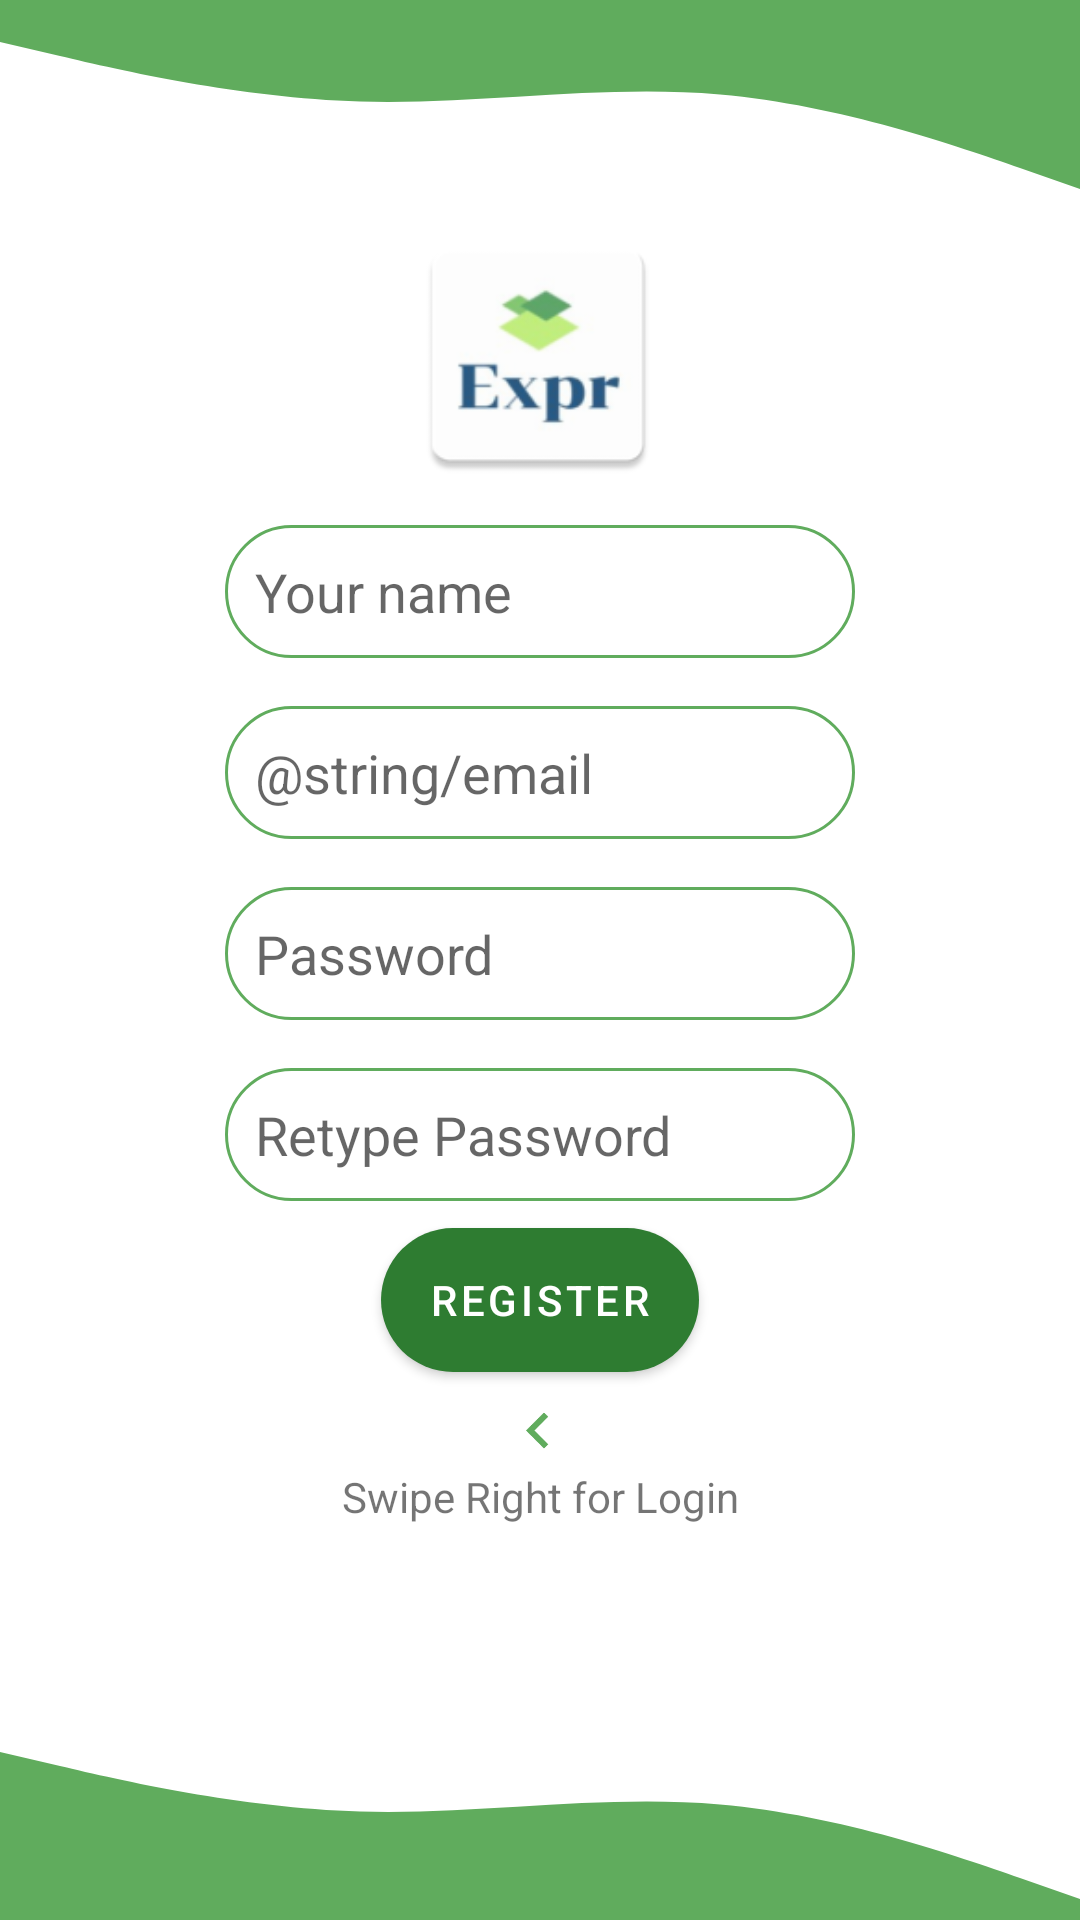

Screen size 1080 x 1920. Icon name, then its center in pixels as (x,y):
arrow left: (537,1430)
